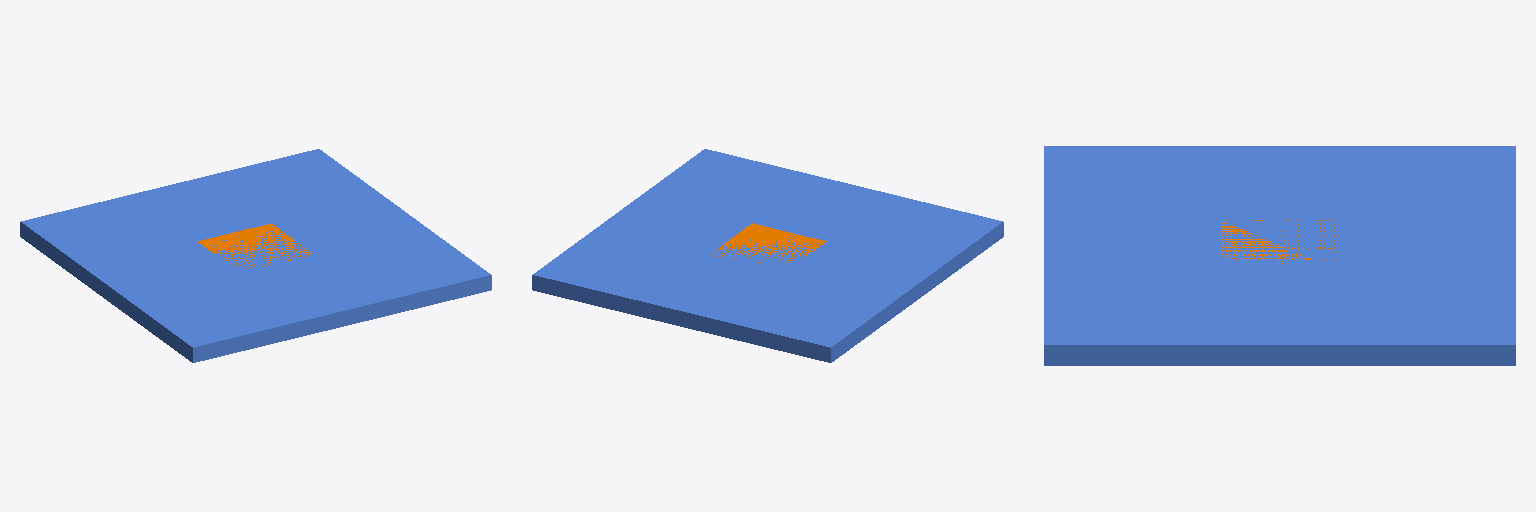
robot.urdf — button:
<?xml version="0.0" ?>
<robot name="button">
  <link name="base_link">
    <inertial>
      <origin rpy="0 0 0" xyz="0 0 0"/>
       <mass value=".5"/>
       <inertia ixx="1.67e-3" ixy="0" ixz="0" iyy="1.67e-3" iyz="0" izz="3.33e-3"/>
    </inertial>
    
    <visual>
      <origin rpy="0 0 0" xyz="0 0 0"/>
      <geometry>
        <box size="0.2 0.2 0.01"/>      
      </geometry>
      <material name="cornflowerblue">
        <color rgba="0.3921 0.5843 0.9294 1.0"/>
      </material>
    </visual>

    <collision>
      <origin rpy="0 0 0" xyz="0 0 0"/>
      <geometry>
        <box size="0.2 0.2 0.01"/>      
      </geometry>
    </collision>
  </link>

  <joint name="joint1" type="prismatic">
    <origin rpy="0 0 0" xyz="0 0 0.00"/>
    <parent link="base_link"/>
    <child link="button"/>
    <axis xyz="0 0 1"/>
    <dynamics damping="0.0" friction="0.0"/>
    <limit effort="30.0" lower="0.0" upper="0.02" velocity="10.0"/>
  </joint>

  <link name="button">
    <inertial>
      <origin rpy="0 0 0" xyz="0 0 0"/>
       <mass value=".1"/>
       <inertia ixx="2.17e-5" ixy="0" ixz="0" iyy="2.17e-5" iyz="0" izz="4.17e-5"/>
    </inertial>
    
    <visual>
      <origin rpy="0 0 0" xyz="0 0 0"/>
      <geometry>
        <box size="0.05 0.05 0.01"/>      
      </geometry>
      <material name="darkorange">
        <color rgba="1.0 0.549 0.0 1.0"/>
      </material>
    </visual>

    <collision>
      <origin rpy="0 0 0" xyz="0 0 0"/>
      <geometry>
        <box size="0.05 0.05 0.01"/>      
      </geometry>
    </collision>
  </link>
</robot>

--- Facts derived from the render (not from the file) ---
The picture shows the robot from 3 angles, left to right: view 1: azimuth 30°, elevation 25°; view 2: azimuth 150°, elevation 25°; view 3: azimuth 270°, elevation 25°; orthographic projection.
Model button with 2 links and 1 joints (1 prismatic), rooted at base_link, posed all joints at 0.
Links seen in each view (by area): view 1: base_link, button; view 2: base_link, button; view 3: base_link, button.
Boxes of the visible links, x1=… form: base_link: x1=20, y1=149, x2=491, y2=362; button: x1=197, y1=223, x2=312, y2=269; base_link: x1=532, y1=149, x2=1003, y2=362; button: x1=712, y1=223, x2=826, y2=262; base_link: x1=1044, y1=146, x2=1515, y2=365; button: x1=1221, y1=220, x2=1334, y2=266.
Size in the robot's own frame: 0.2 by 0.2 by 0.01 metres.
Geometry: primitives only (box / cylinder / sphere), no mesh files.